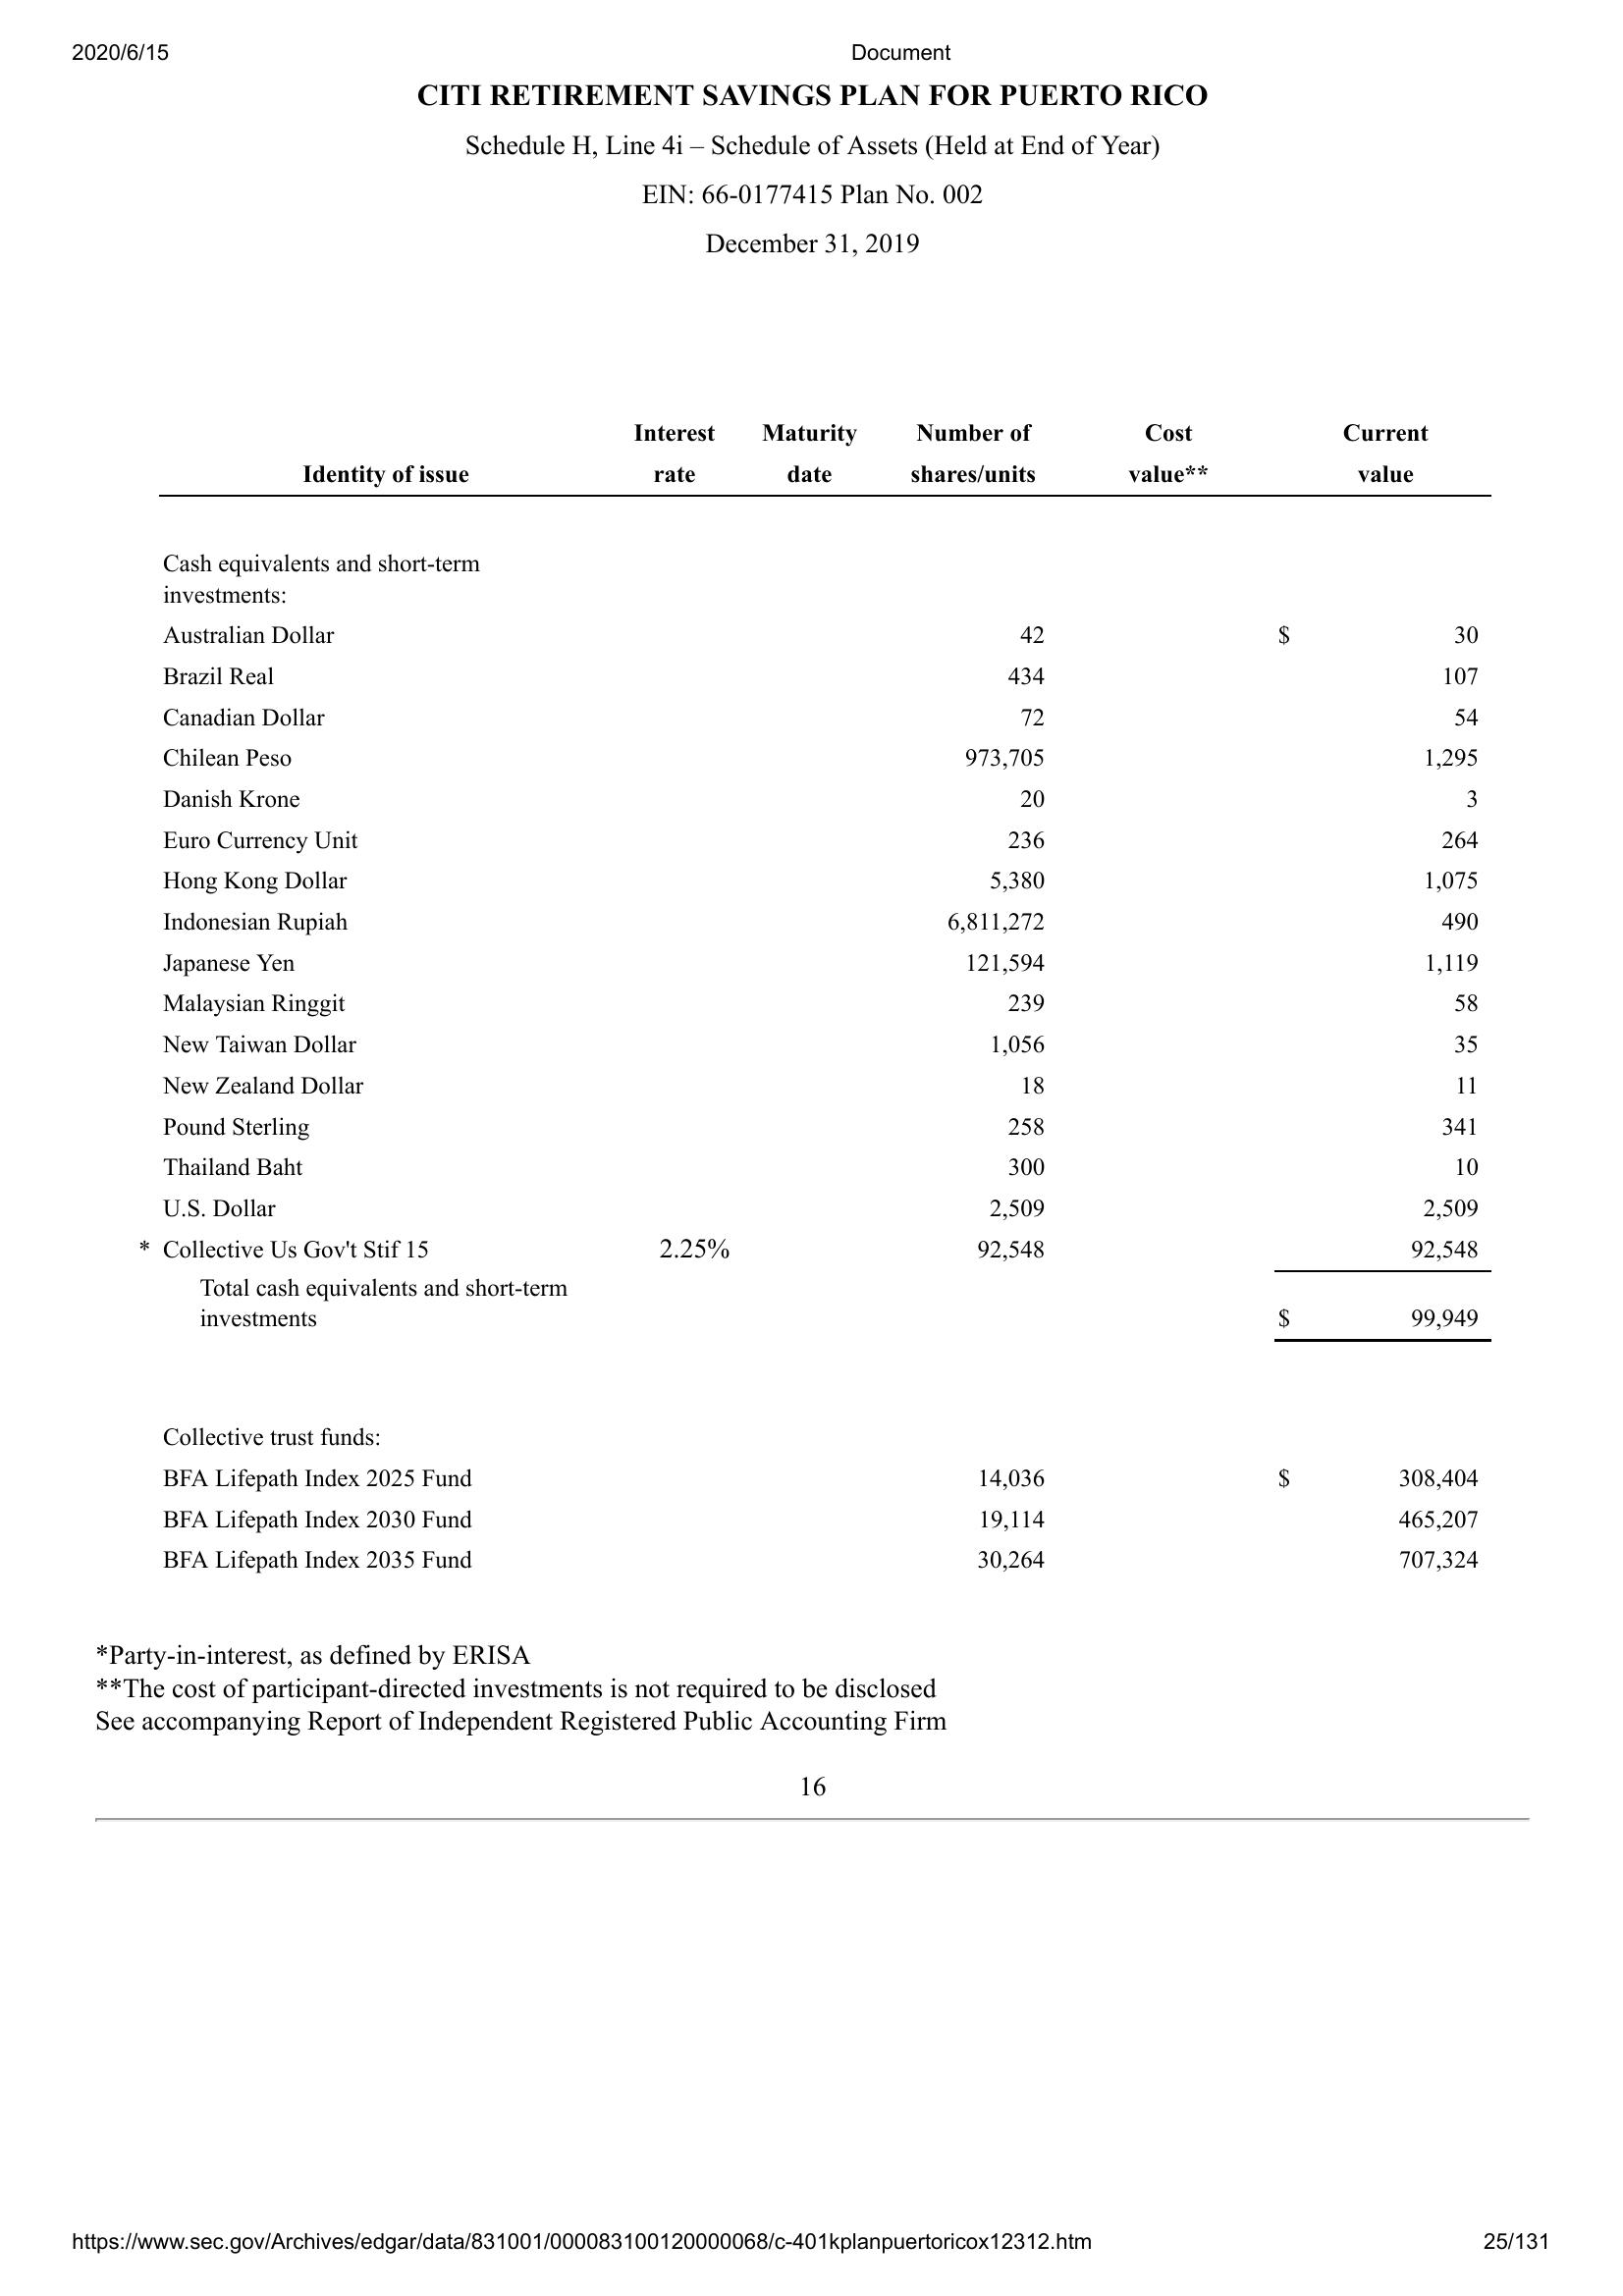table: (144, 418, 1497, 1580)
